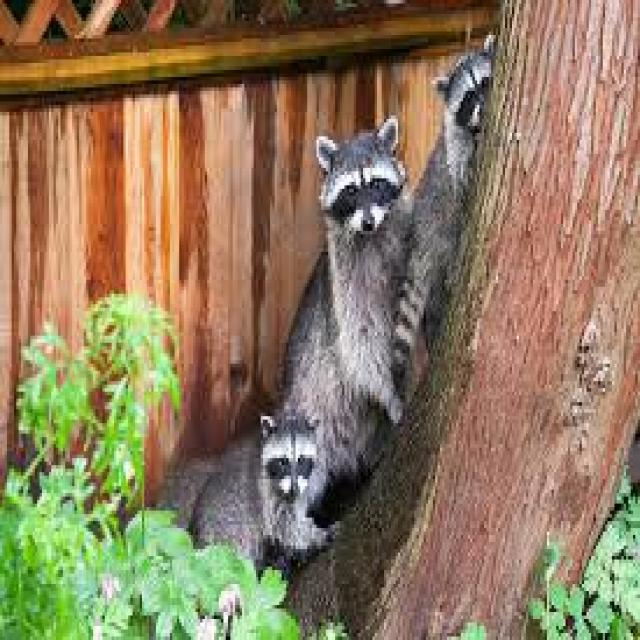Raccoon: (299, 110, 419, 454), (157, 410, 323, 567)
